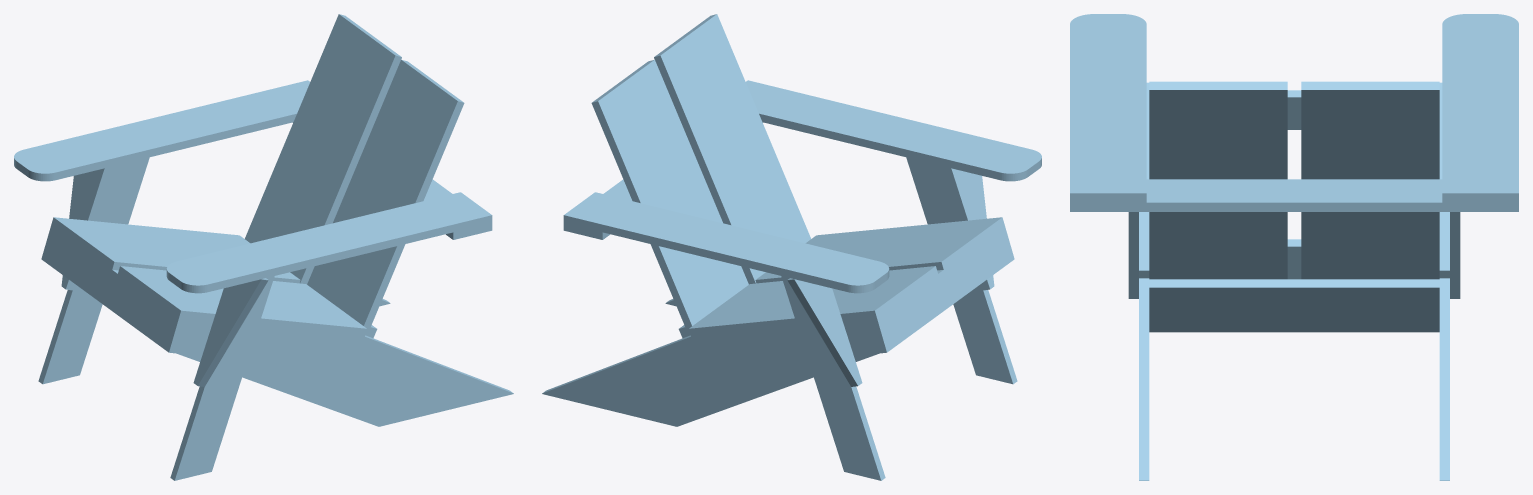
The model's file is BarbourSmith_Blocky_Adorondac_Chair.glb.
3 renders of one model, left to right at view 1: azimuth 30°, elevation 25°; view 2: azimuth 150°, elevation 25°; view 3: azimuth 270°, elevation 25°, orthographic. The views are drawn at different scales.
Parts seen in each view (by area): view 1: part-13, part-11, part-14, part-1, part-0, part-8, part-7, part-6, part-5, part-9, part-4, part-3 (+1 smaller); view 2: part-14, part-10, part-13, part-0, part-1, part-7, part-8, part-5, part-6, part-9, part-3, part-4 (+1 smaller); view 3: part-13, part-14, part-15, part-0, part-1, part-2, part-10, part-11, part-7, part-8, part-5, part-6 (+2 smaller).
Boxes of the visible parts, x1,y1,x2,y2 form: part-13: (245,14,401,284); part-11: (166,319,513,426); part-14: (307,59,464,335); part-1: (166,192,492,293); part-0: (14,80,309,181); part-8: (118,266,366,336); part-7: (51,217,300,283); part-6: (170,242,274,480); part-5: (38,145,149,384); part-9: (41,225,185,353); part-4: (193,278,268,386); part-3: (61,166,112,290); part-14: (654,14,810,284); part-10: (542,319,889,426); part-13: (591,59,748,335); part-0: (563,192,889,293); part-1: (746,80,1041,181); part-7: (689,266,937,336); part-8: (755,217,1004,283); part-5: (781,242,885,480); part-6: (906,145,1017,384); part-9: (870,225,1014,353); part-3: (787,278,862,386); part-4: (943,166,994,290); part-13: (1301,81,1439,279); part-14: (1149,81,1287,279); part-15: (1149,279,1439,332); part-0: (1442,14,1518,202); part-1: (1070,14,1146,202); part-2: (1070,179,1518,211); part-10: (1439,278,1449,480); part-11: (1139,278,1149,480); part-7: (1439,82,1449,278); part-8: (1139,82,1149,278); part-5: (1450,66,1460,298); part-6: (1128,66,1138,298).
Bounding box in the file's own units: 903 × 742 × 820.
